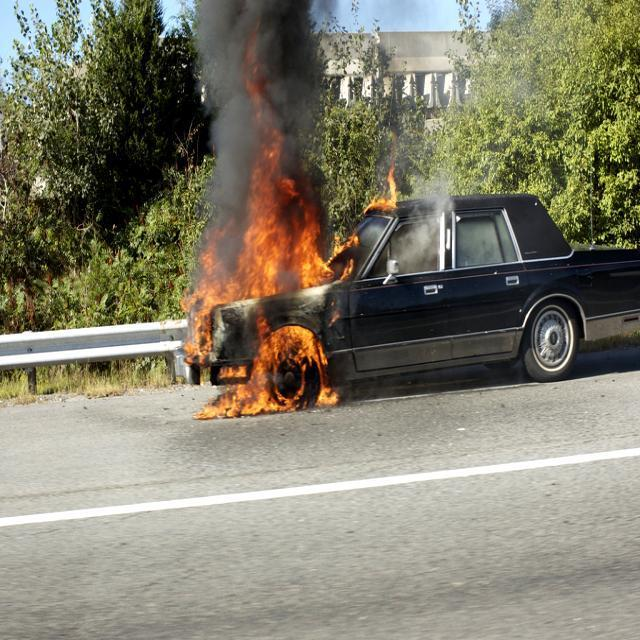Fire: (185, 202, 344, 424)
Smoke: (167, 0, 355, 224), (373, 166, 403, 212)
